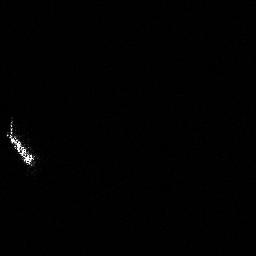ship: (2, 115, 42, 172)
